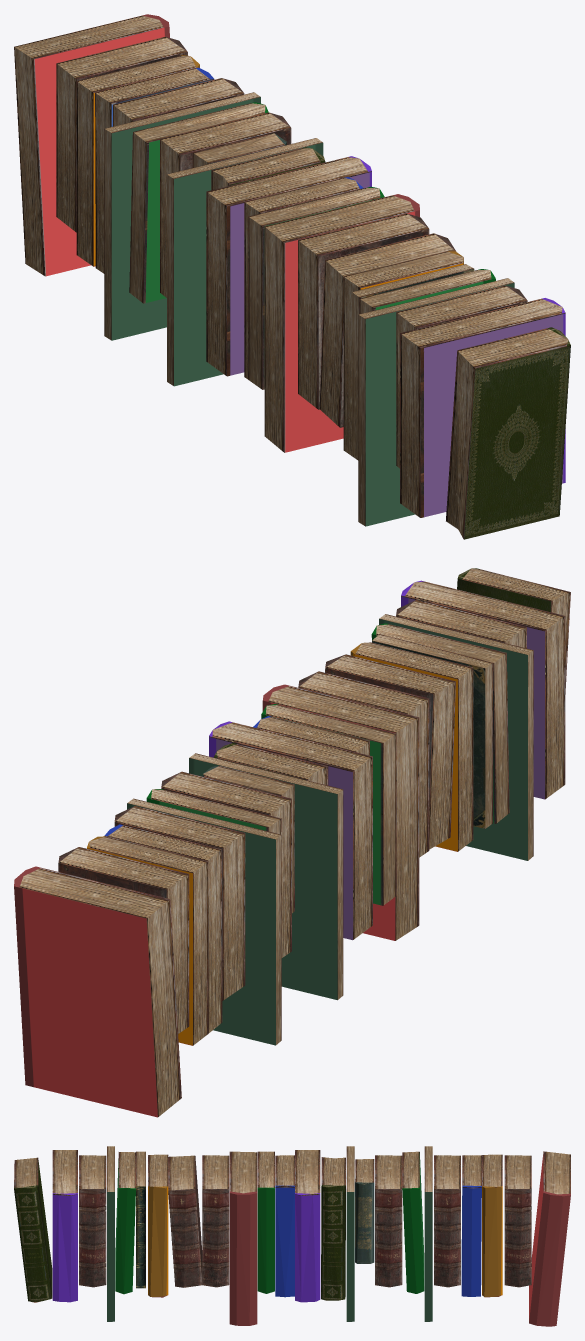
The picture shows the model from 3 angles, top to bottom: view 1: azimuth 30°, elevation 25°; view 2: azimuth 150°, elevation 25°; view 3: azimuth 270°, elevation 25°; orthographic projection. The views are drawn at different scales.
Parts seen in each view (by area): view 1: SM_Book_Row; view 2: SM_Book_Row; view 3: SM_Book_Row.
Part boxes in pixels (left/top/right/bottom): SM_Book_Row: left=14, top=14, right=570, bottom=539; SM_Book_Row: left=14, top=568, right=570, bottom=1117; SM_Book_Row: left=14, top=1146, right=570, bottom=1326.
Size of the model in its own units: 2289 by 2928 by 10966.
